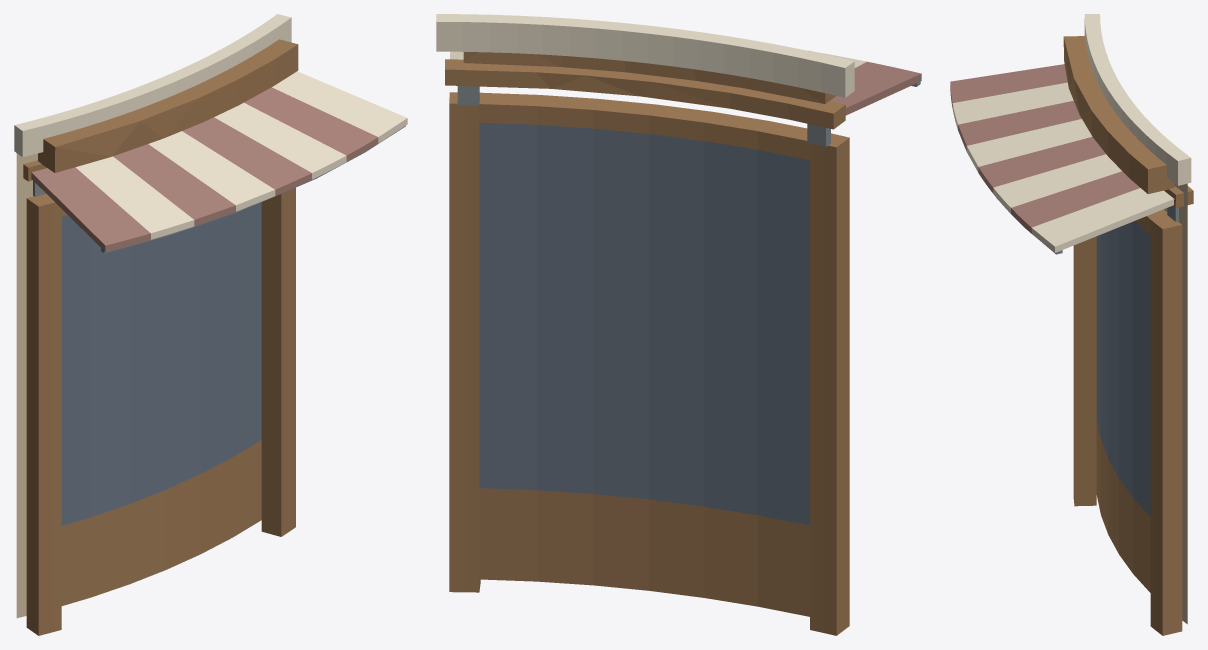
Rendered from ArcShopfront_R4_A30.glb.
3 views of the same model, side by side, from view 1: azimuth 30°, elevation 25°; view 2: azimuth 150°, elevation 25°; view 3: azimuth 270°, elevation 25° (orthographic). The views are drawn at different scales.
Visible parts, largest first — view 1: PBK_Arc_PBK_glass.002, PBK_Continuous_Frame_Indochine_Shopfront.003, PBK_Arc_PBK_glass.001_Frame_Base20.001, PBK_Arc_PBK_signboard.006, PBK_floor_band.048, PBK_Indochine_ArcShopfront_R4_A30_Exterior_Surface.001, PBK_Arc_PBK_awning_stripe.006, PBK_Arc_PBK_awning_stripe.007, PBK_Arc_PBK_awning_stripe.011, PBK_Arc_PBK_awning_stripe.012, PBK_Arc_PBK_awning_stripe.013, PBK_Arc_PBK_awning_stripe.014 (+2 smaller); view 2: PBK_Arc_PBK_glass.002, PBK_Continuous_Frame_Indochine_Shopfront.003, PBK_Arc_PBK_glass.001_Frame_Base20.001, PBK_floor_band.048, PBK_Arc_PBK_awning_wall_mount.001, PBK_Arc_PBK_signboard.006, PBK_Arc_PBK_awning_stripe.006; view 3: PBK_Continuous_Frame_Indochine_Shopfront.003, PBK_Arc_PBK_glass.002, PBK_Arc_PBK_signboard.006, PBK_Arc_PBK_glass.001_Frame_Base20.001, PBK_floor_band.048, PBK_Arc_PBK_awning_stripe.022, PBK_Arc_PBK_awning_stripe.015, PBK_Arc_PBK_awning_stripe.014, PBK_Arc_PBK_awning_stripe.013, PBK_Arc_PBK_awning_stripe.012, PBK_Indochine_ArcShopfront_R4_A30_Exterior_Surface.001, PBK_Arc_PBK_awning_stripe.011 (+3 smaller).
Part boxes in pixels (x1,y1,x2,y2): PBK_Arc_PBK_glass.002: (61,202,261,525); PBK_Continuous_Frame_Indochine_Shopfront.003: (26,187,295,635); PBK_Arc_PBK_glass.001_Frame_Base20.001: (61,440,261,605); PBK_Arc_PBK_signboard.006: (38,39,298,172); PBK_floor_band.048: (14,14,291,157); PBK_Indochine_ArcShopfront_R4_A30_Exterior_Surface.001: (16,153,37,618); PBK_Arc_PBK_awning_stripe.006: (31,167,150,251); PBK_Arc_PBK_awning_stripe.007: (75,156,194,239); PBK_Arc_PBK_awning_stripe.011: (113,144,235,226); PBK_Arc_PBK_awning_stripe.012: (148,131,275,211); PBK_Arc_PBK_awning_stripe.013: (182,117,311,195); PBK_Arc_PBK_awning_stripe.014: (214,102,346,179); PBK_Arc_PBK_glass.002: (479,122,809,525); PBK_Continuous_Frame_Indochine_Shopfront.003: (449,92,849,635); PBK_Arc_PBK_glass.001_Frame_Base20.001: (479,488,809,616); PBK_floor_band.048: (436,14,854,97); PBK_Arc_PBK_awning_wall_mount.001: (445,59,845,129); PBK_Arc_PBK_signboard.006: (463,52,835,103); PBK_Arc_PBK_awning_stripe.006: (830,61,921,115); PBK_Continuous_Frame_Indochine_Shopfront.003: (1073,209,1182,635); PBK_Arc_PBK_glass.002: (1096,221,1150,516); PBK_Arc_PBK_signboard.006: (1063,36,1174,193); PBK_Arc_PBK_glass.001_Frame_Base20.001: (1096,419,1150,592); PBK_floor_band.048: (1084,14,1191,185); PBK_Arc_PBK_awning_stripe.022: (1031,188,1174,252); PBK_Arc_PBK_awning_stripe.015: (1011,171,1139,233); PBK_Arc_PBK_awning_stripe.014: (993,154,1121,213); PBK_Arc_PBK_awning_stripe.013: (978,136,1105,193); PBK_Arc_PBK_awning_stripe.012: (966,119,1092,172); PBK_Indochine_ArcShopfront_R4_A30_Exterior_Surface.001: (1164,183,1187,624); PBK_Arc_PBK_awning_stripe.011: (958,100,1081,150).
Bounding box in the file's own units: 2.36 × 3.07 × 1.42.
